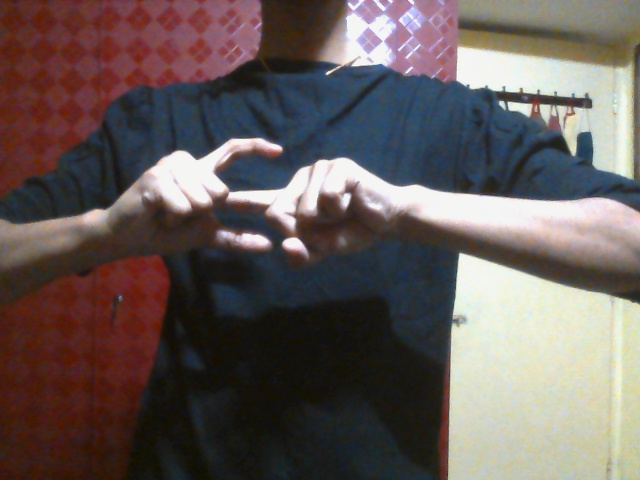E: (144, 137, 407, 269)
